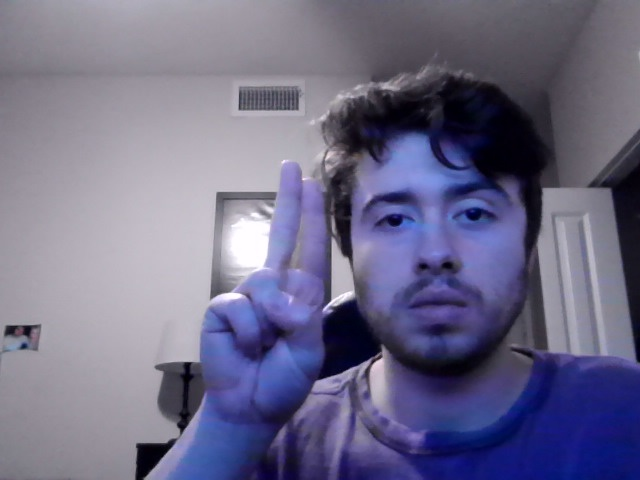u: (199, 159, 325, 444)
